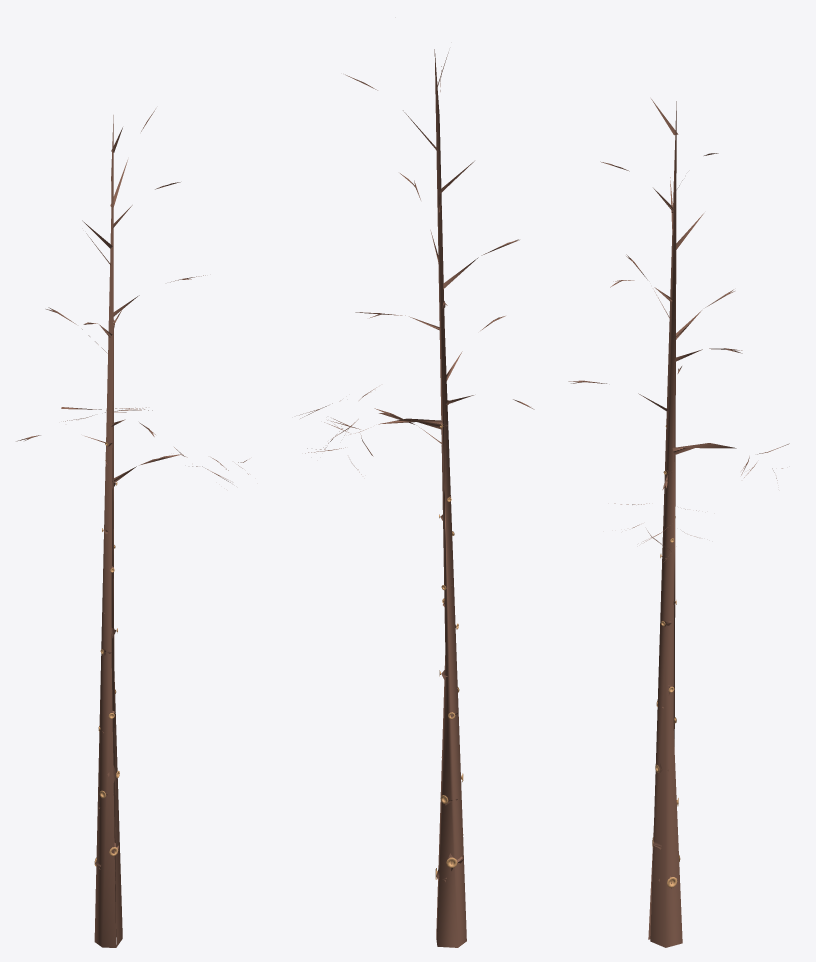
The model's file is pin_mort_l1.glb.
3 views of the same model, side by side, from view 1: azimuth 30°, elevation 25°; view 2: azimuth 150°, elevation 25°; view 3: azimuth 270°, elevation 25° (orthographic). The views are drawn at different scales.
Parts seen in each view (by area): view 1: bark04_0; view 2: bark04_0; view 3: bark04_0.
Boxes of the visible parts, x1,y1,x2,y2 form: bark04_0: (16,109,248,947); bark04_0: (299,49,534,947); bark04_0: (568,99,789,947).
Size of the model in its own units: 28.48 by 104 by 24.18.
